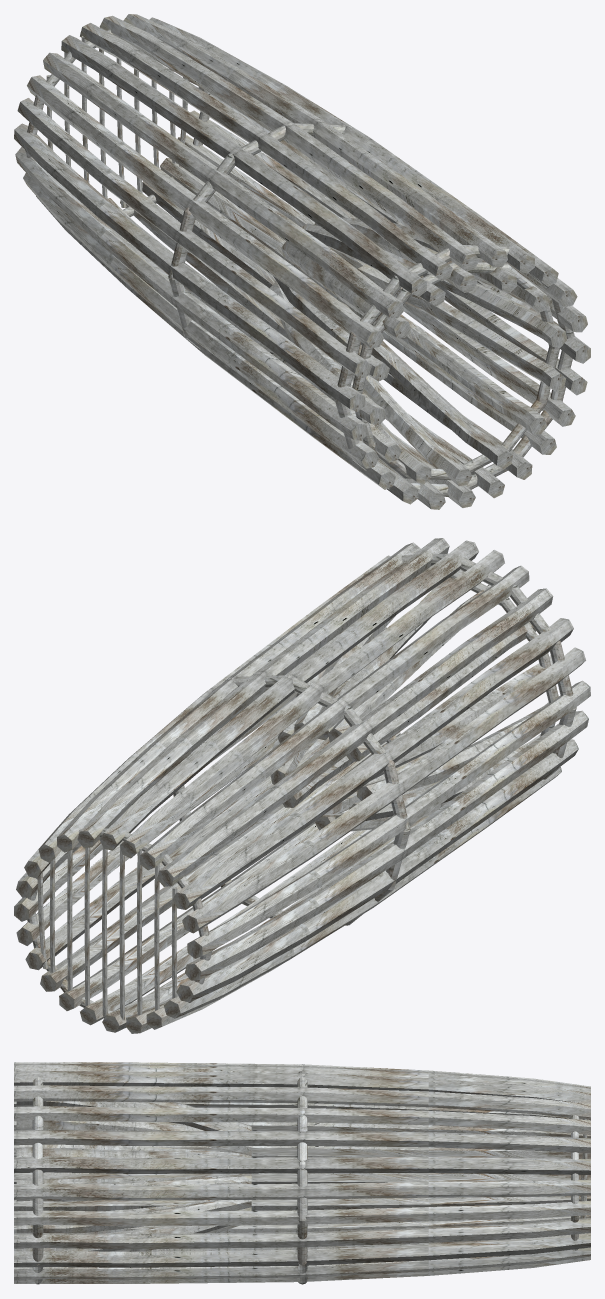
The model's file is ArmadilhaPeixeMaior.fbx.
3 views of the same model, one above another, from view 1: azimuth 30°, elevation 25°; view 2: azimuth 150°, elevation 25°; view 3: azimuth 270°, elevation 25° (orthographic). The views are drawn at different scales.
Parts seen in each view (by area): view 1: ArmadilhaPeixe; view 2: ArmadilhaPeixe; view 3: ArmadilhaPeixe.
Part boxes in pixels (x1=…): ArmadilhaPeixe: x1=14, y1=14, x2=590, y2=509; ArmadilhaPeixe: x1=14, y1=538, x2=590, y2=1033; ArmadilhaPeixe: x1=14, y1=1062, x2=590, y2=1284.
Bounding box in the file's own units: 27.65 × 27.77 × 71.98.
1 material, 1 textured.
